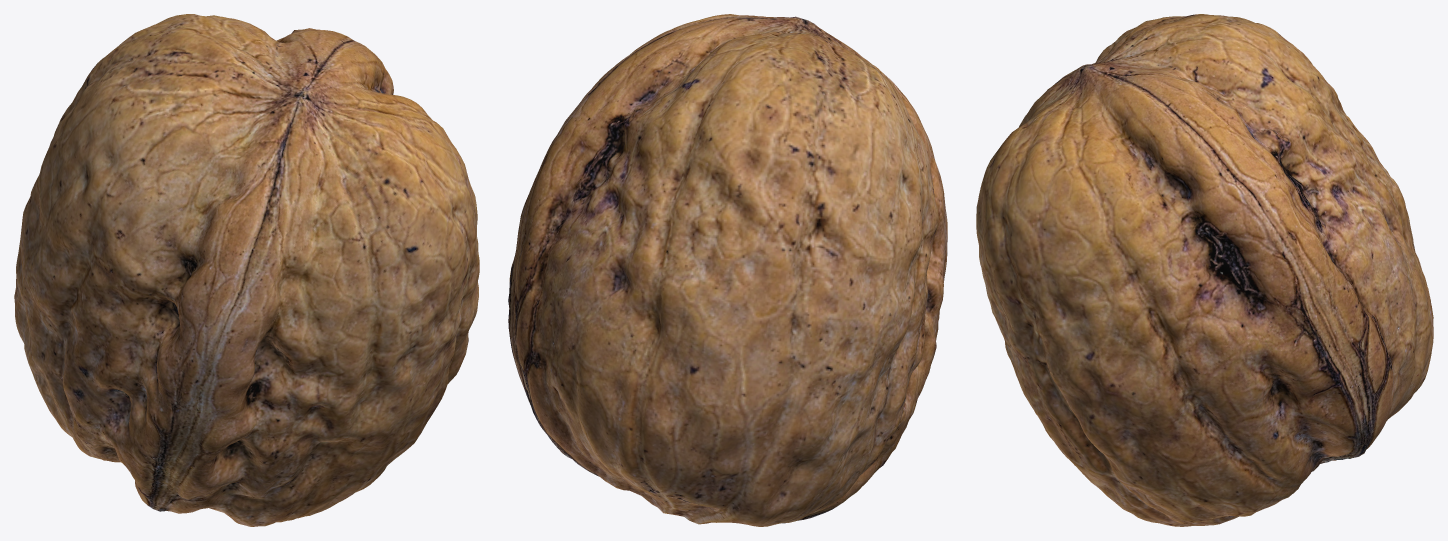
File: nut_08.glb
3 views of the same model, side by side, from view 1: azimuth 30°, elevation 25°; view 2: azimuth 150°, elevation 25°; view 3: azimuth 270°, elevation 25° (orthographic). The views are drawn at different scales.
Parts seen in each view (by area): view 1: Object_2; view 2: Object_2; view 3: Object_2.
Part boxes in pixels (box(x1,y1,x2,y2)): Object_2: box(14, 14, 479, 526); Object_2: box(508, 14, 947, 526); Object_2: box(976, 14, 1433, 526).
Bounding box in the file's own units: 0.0308 × 0.0379 × 0.0341.
Materials: 1 (1 with a texture image).
